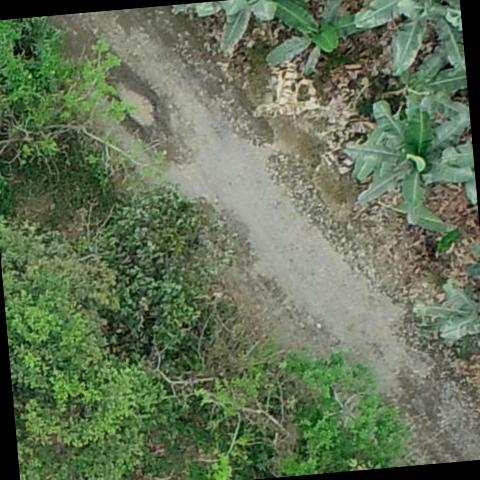Banana-plant: (344, 94, 478, 224), (352, 0, 465, 72), (266, 0, 363, 74)
